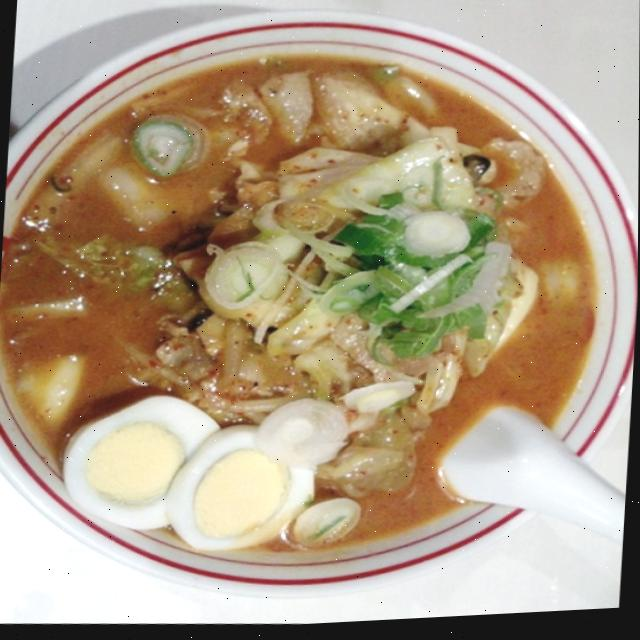面条主食: (0, 3, 632, 627)
